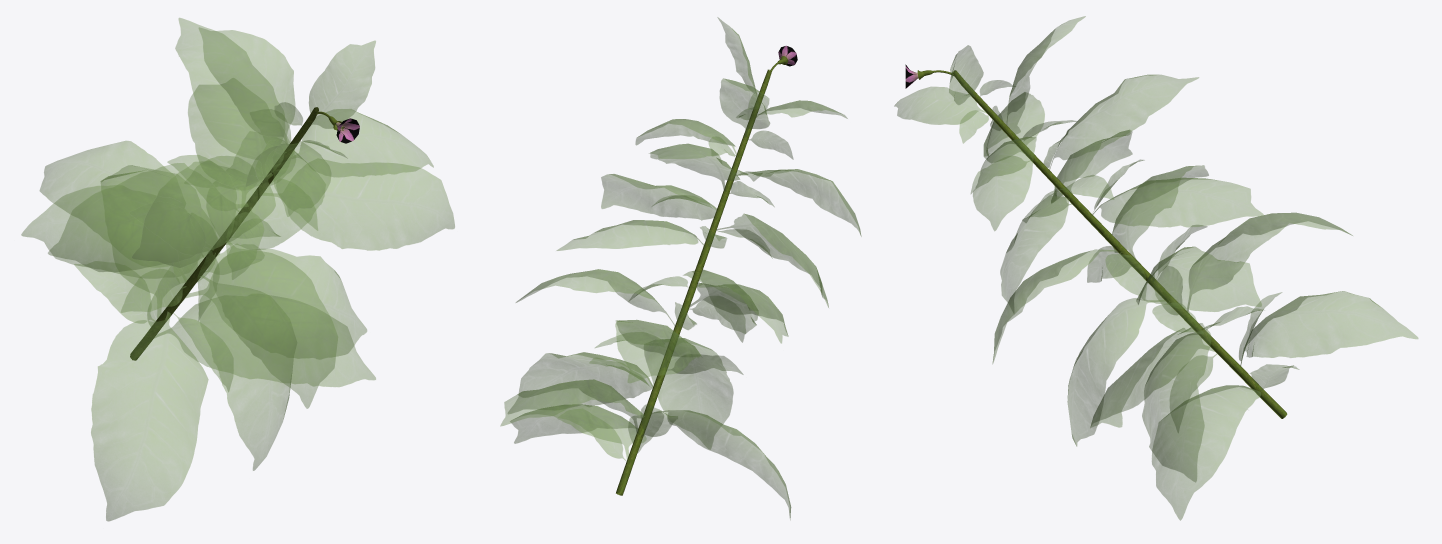
3 renders of one model, left to right at view 1: azimuth 30°, elevation 25°; view 2: azimuth 150°, elevation 25°; view 3: azimuth 270°, elevation 25°, orthographic. The views are drawn at different scales.
Parts seen in each view (by area): view 1: AG13_7; view 2: AG13_7; view 3: AG13_7.
Part boxes in pixels (x1=…): AG13_7: x1=21, y1=18, x2=454, y2=521; AG13_7: x1=500, y1=17, x2=861, y2=519; AG13_7: x1=894, y1=16, x2=1418, y2=520.
Size of the model in its own units: 0.527 by 0.7056 by 0.737.
Materials: 3 (3 with a texture image).
